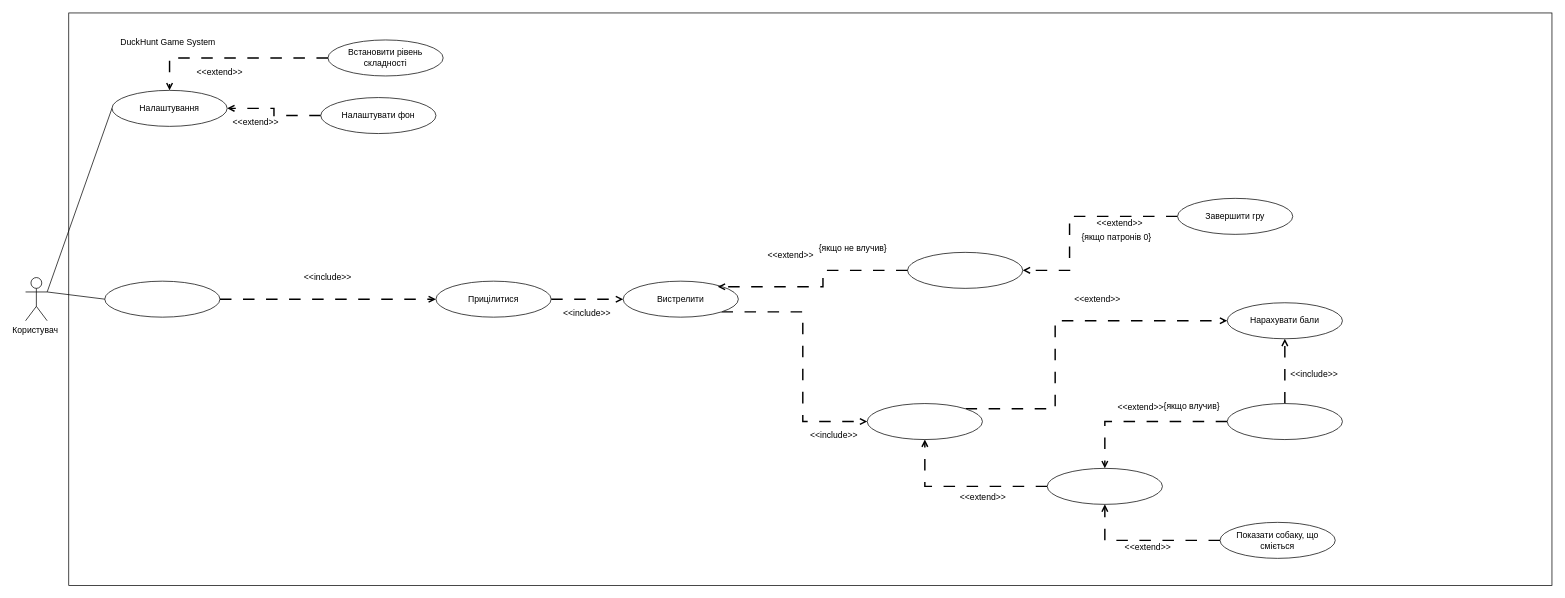
Image size: 1565x598. Some labels were removed from this diagram. The centre of each missing label's shape, as x and y in pixels:
"Запустити гру" goes at point (162, 298).
"Зменшити кількість патронів" goes at point (965, 270).
"Перевірити влучання" goes at point (924, 421).
"Показати анімацію собаки" goes at point (1104, 486).
"Показати собаку зі здобиччю" goes at point (1284, 421).
